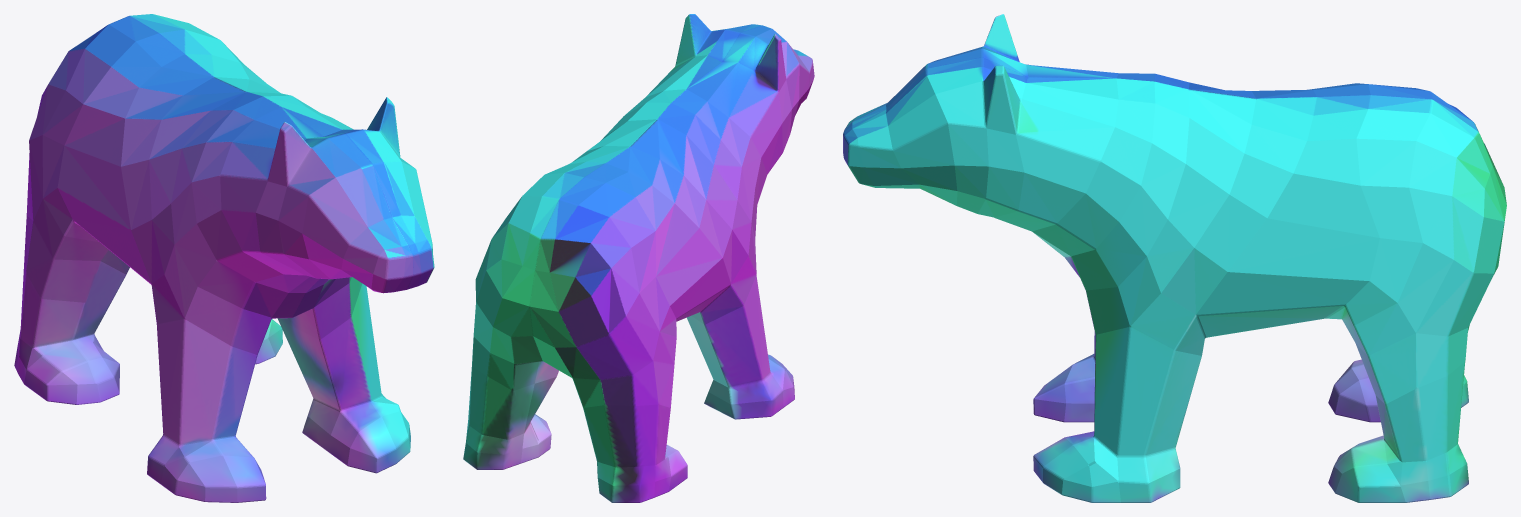
The model's file is WalkerBear.glb.
The picture shows the model from 3 angles, left to right: view 1: azimuth 30°, elevation 25°; view 2: azimuth 150°, elevation 25°; view 3: azimuth 270°, elevation 25°; orthographic projection. The views are drawn at different scales.
Parts seen in each view (by area): view 1: Cube; view 2: Cube; view 3: Cube.
Boxes of the visible parts, bbox=[...] form: Cube: bbox=[14, 14, 434, 502]; Cube: bbox=[463, 14, 814, 502]; Cube: bbox=[843, 14, 1506, 502].
Bounding box in the file's own units: 0.6975 × 1.1 × 1.63.
Materials: 1 (1 with a texture image).
